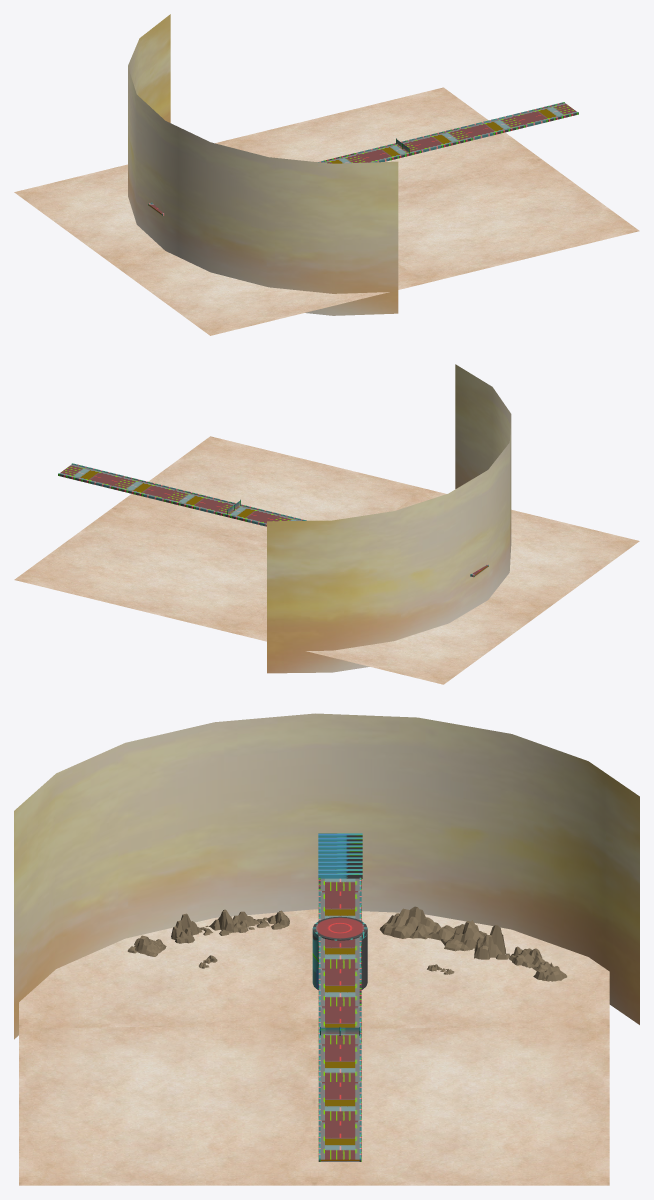
The model's file is map.fbx.
3 views of the same model, one above another, from view 1: azimuth 30°, elevation 25°; view 2: azimuth 150°, elevation 25°; view 3: azimuth 270°, elevation 25° (orthographic). The views are drawn at different scales.
Visible parts, largest first — view 1: ground, map:map:pCylinder8, bridge; view 2: ground, map:map:pCylinder8, bridge; view 3: ground, map:map:pCylinder8, bridge, far_moutain4, bacthang, far_moutain2, far_moutain6, far_moutain5, far_moutain3.
Part boxes in pixels (x1,y1,x2,y2): ground: (14, 87, 639, 335); map:map:pCylinder8: (128, 14, 398, 315); bridge: (148, 102, 578, 215); ground: (14, 436, 639, 684); map:map:pCylinder8: (267, 364, 511, 673); bridge: (58, 463, 488, 577); ground: (19, 909, 609, 1185); map:map:pCylinder8: (14, 713, 639, 1039); bridge: (312, 877, 367, 1161); far_moutain4: (379, 906, 486, 951); bacthang: (318, 833, 362, 878); far_moutain2: (171, 909, 234, 943); far_moutain6: (509, 946, 567, 981); far_moutain5: (474, 925, 509, 959); far_moutain3: (232, 910, 289, 932).
Size of the model in its own units: 10424 by 3237 by 8027.
